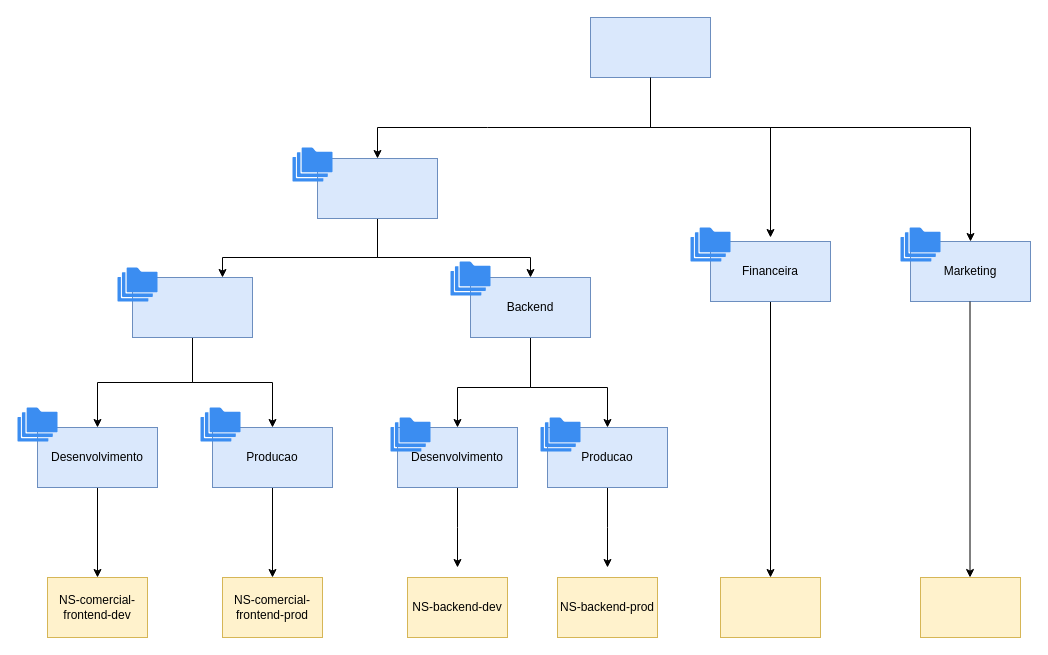
The diagram is 1048 pixels wide and 655 high, and some of its shapes have lost their labels. Here are the shapes that lost their labels. From the top down, the box of each, then its label:
(590, 16, 710, 78): New Startup
(316, 158, 438, 218): Comercial
(132, 276, 252, 338): Frontend
(720, 576, 820, 638): NS-fin
(920, 576, 1020, 638): NS-mkt
